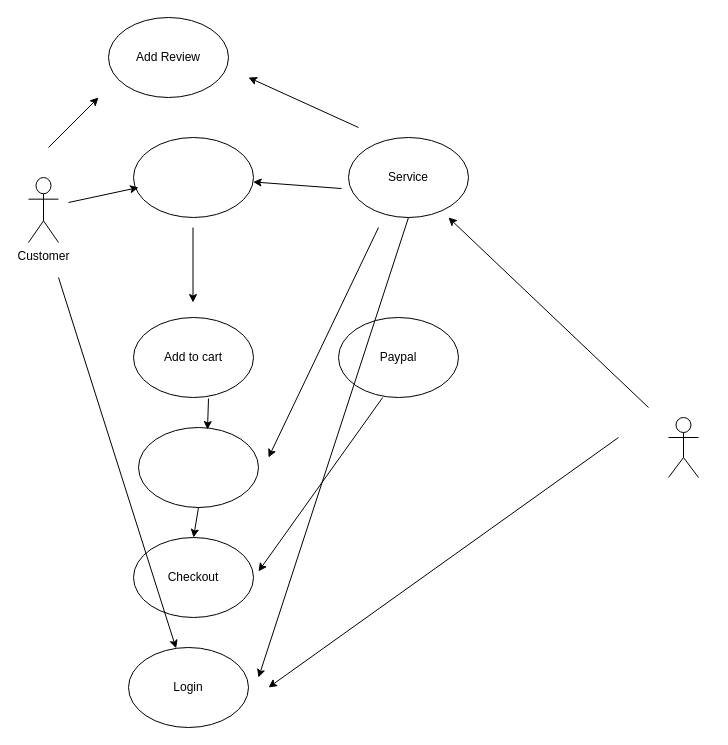
This 728x745 diagram has some shape labels left out. Each missing label, with the centre of its shape:
Developer: point (683, 447)
Purchase items: point (198, 467)
View Items: point (193, 177)
